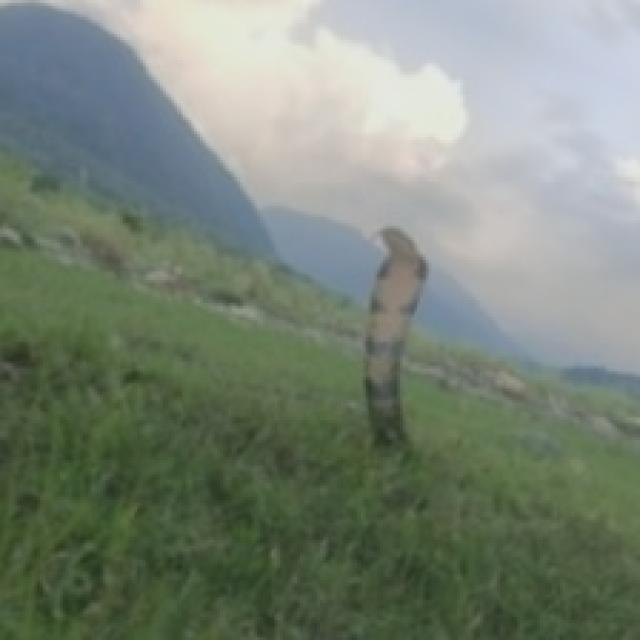king cobra: (366, 229, 426, 443)
